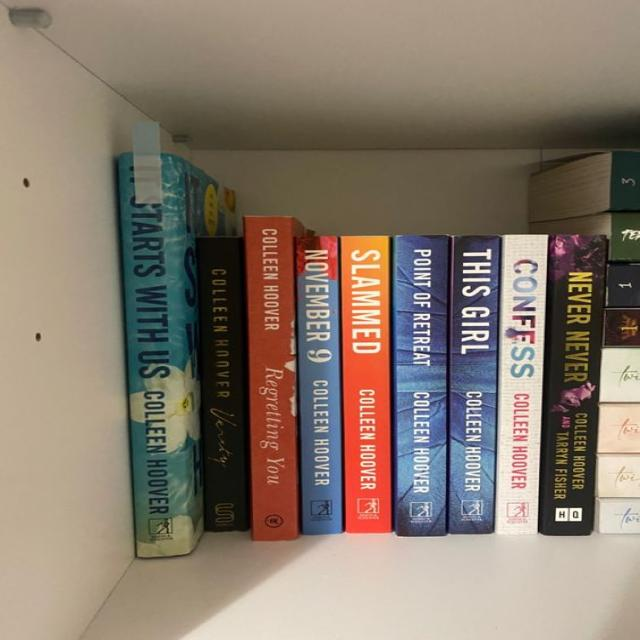book: (121, 154, 193, 557), (538, 234, 607, 535), (244, 217, 303, 540), (391, 236, 450, 535), (196, 237, 250, 531), (494, 235, 547, 534), (447, 237, 498, 534), (342, 236, 391, 533), (297, 234, 342, 534)
